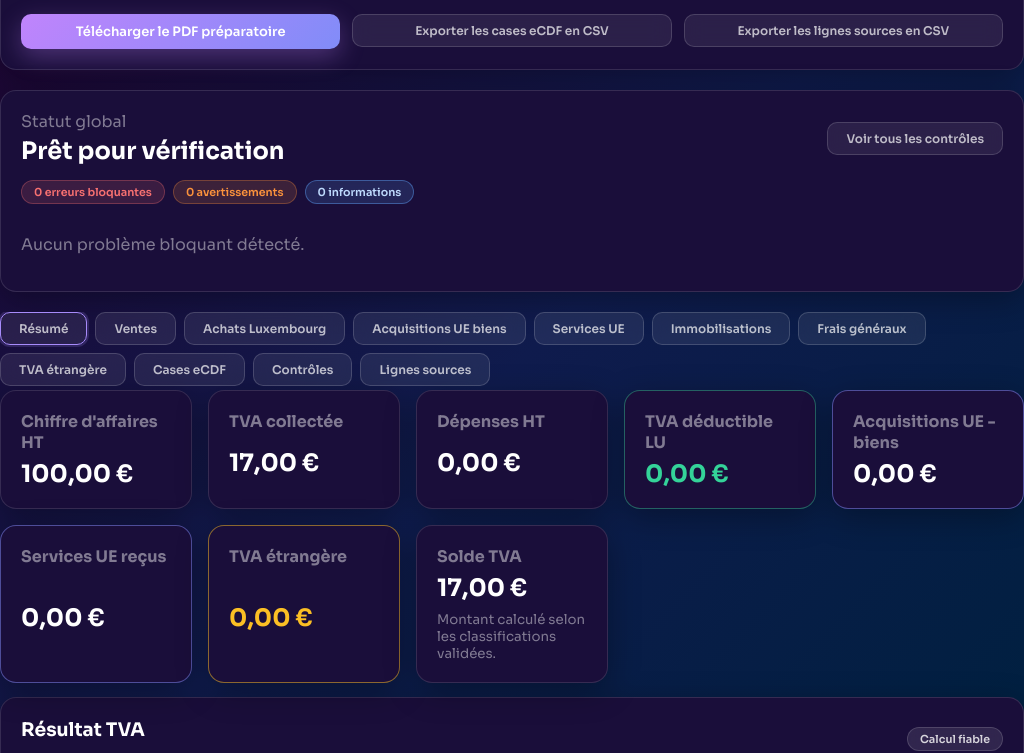
Scenario: VatDeclaration › clic sur une case eCDF filtre les lignes sources
(page scrolled)
Click the button "Cases eCDF" at x=189, y=369, box [134, 353, 245, 386]
(page scrolled)
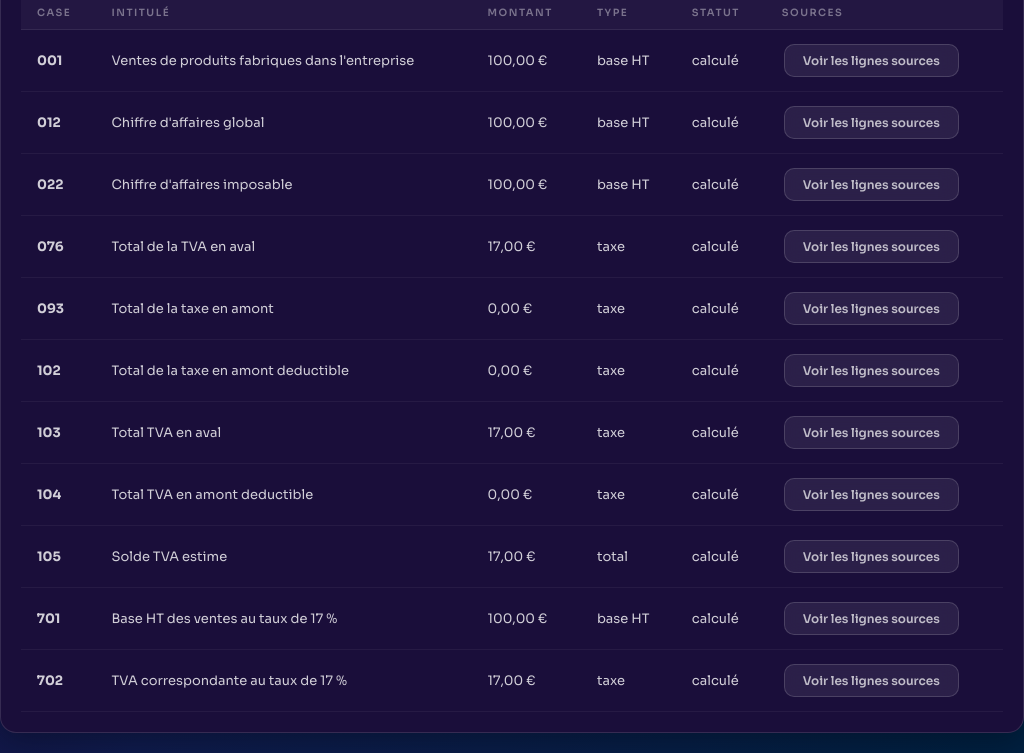
Click the button "Voir les lignes sources" in the row of "701" at x=871, y=618, box [784, 602, 959, 635]
(page scrolled)
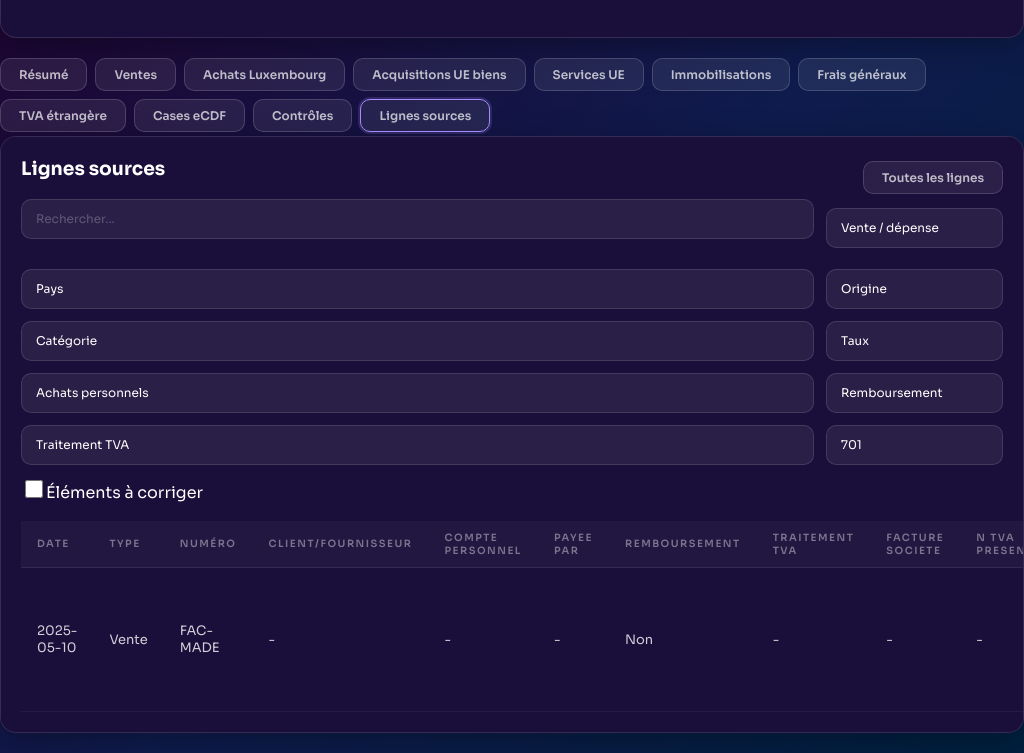
Now the field showing "701" is shown, box [826, 425, 1003, 465]
Now the text "FAC-MADE" is shown, box [164, 568, 252, 712]
